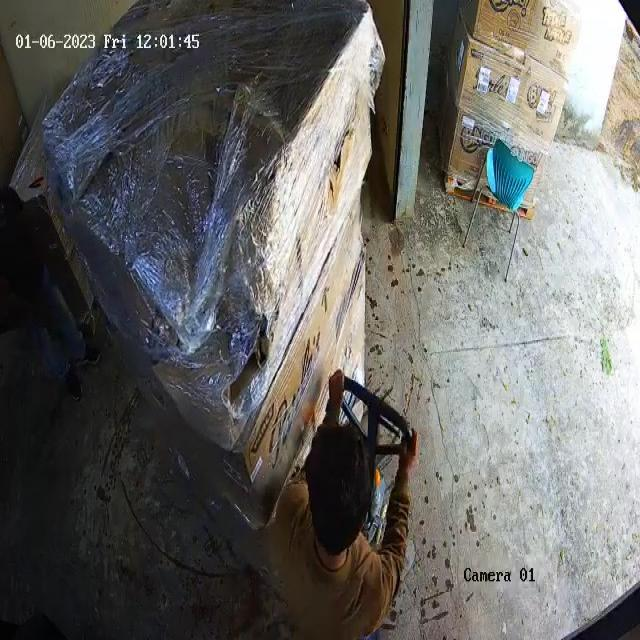leakage: (222, 345, 266, 404), (319, 125, 348, 198)
squeeze: (117, 119, 254, 334)
